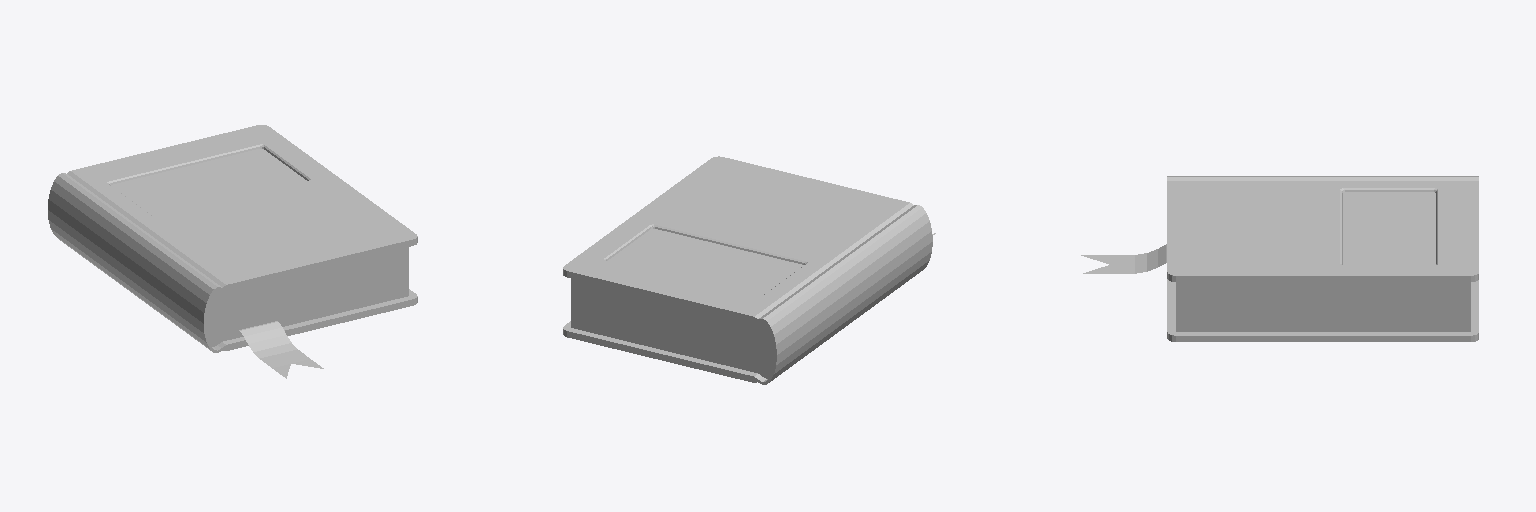
The model's file is Bookmodel.obj.
The picture shows the model from 3 angles: view 1: azimuth 30°, elevation 25°; view 2: azimuth 150°, elevation 25°; view 3: azimuth 270°, elevation 25°; orthographic projection.
Visible parts, largest first — view 1: default; view 2: default; view 3: default.
Boxes of the visible parts, box(x1,y1,x2,y2) form: default: box(48, 125, 417, 378); default: box(563, 156, 935, 384); default: box(1081, 176, 1478, 341).
Size of the model in its own units: 2.55 by 0.7465 by 4.05.